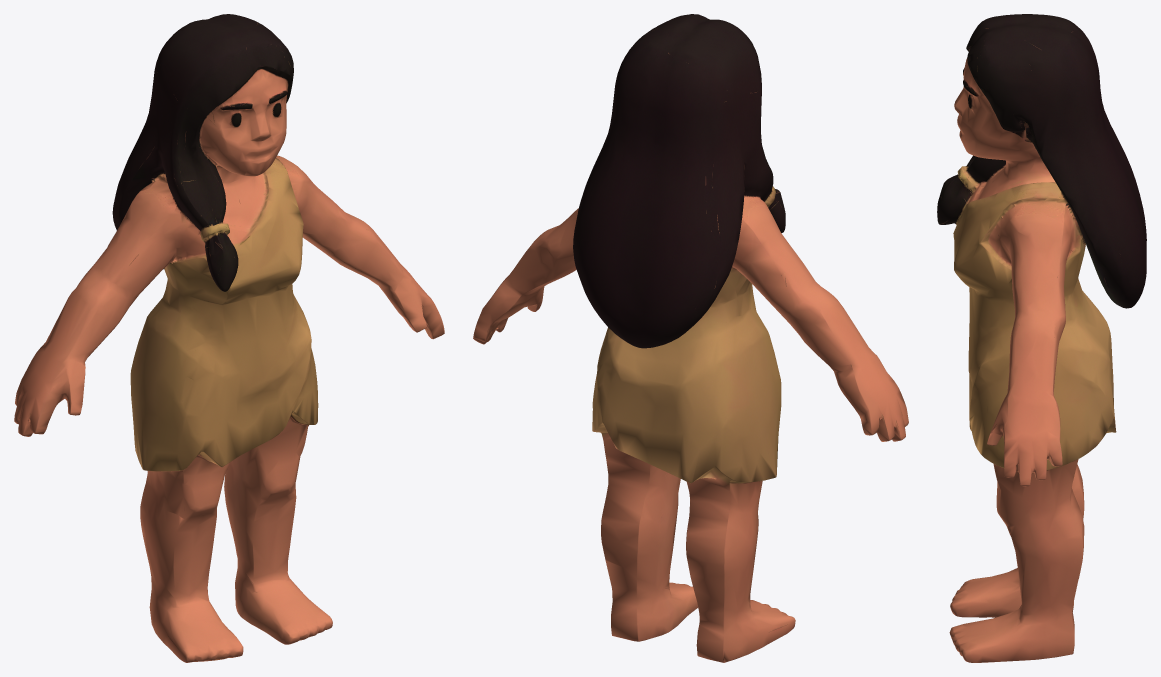
File: woman.glb
3 views of the same model, side by side, from view 1: azimuth 30°, elevation 25°; view 2: azimuth 150°, elevation 25°; view 3: azimuth 270°, elevation 25° (orthographic).
Parts seen in each view (by area): view 1: Mesh_0; view 2: Mesh_0; view 3: Mesh_0.
Boxes of the visible parts, x1,y1,x2,y2 form: Mesh_0: (14, 14, 444, 662); Mesh_0: (473, 14, 908, 662); Mesh_0: (937, 14, 1146, 662).
Bounding box in the file's own units: 1.39 × 1.91 × 0.5971.
Materials: 1 (1 with a texture image).
